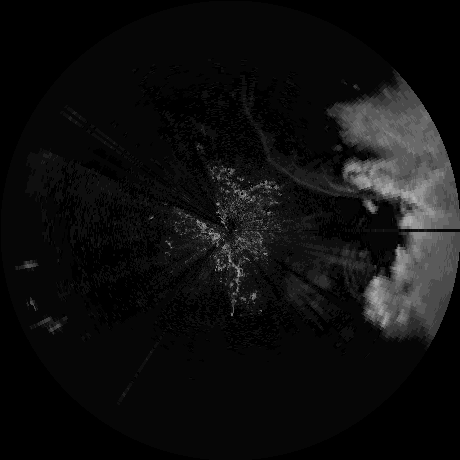frontgust: (267, 139, 365, 194)
